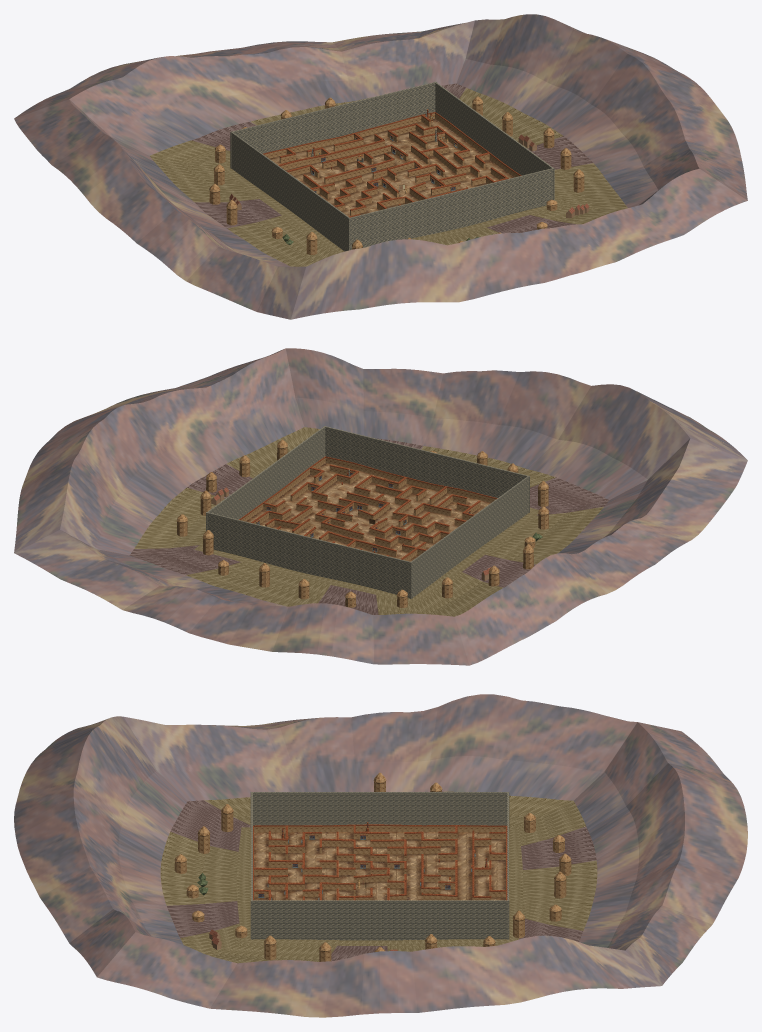
The model's file is SaffronKilns.fbx.
The picture shows the model from 3 angles, top to bottom: view 1: azimuth 30°, elevation 25°; view 2: azimuth 150°, elevation 25°; view 3: azimuth 270°, elevation 25°; orthographic projection. The views are drawn at different scales.
Visible parts, largest first — view 1: Surroundings, C_Solids, Rim, Terrain, Horizon, Set; view 2: Surroundings, C_Solids, Rim, Terrain, Horizon; view 3: Surroundings, C_Solids, Rim, Terrain, Horizon, Set.
Part boxes in pixels (x1,y1,x2,y2): Surroundings: [14, 14, 747, 319]; C_Solids: [230, 81, 554, 251]; Rim: [263, 112, 521, 217]; Terrain: [269, 118, 513, 216]; Horizon: [209, 96, 584, 254]; Set: [294, 109, 476, 199]; Surroundings: [14, 348, 747, 665]; C_Solids: [206, 426, 529, 598]; Rim: [239, 456, 497, 560]; Terrain: [246, 463, 490, 561]; Horizon: [176, 439, 549, 607]; Surroundings: [14, 694, 747, 1017]; C_Solids: [250, 792, 509, 940]; Rim: [253, 824, 507, 900]; Terrain: [254, 831, 505, 900]; Horizon: [174, 772, 571, 961]; Set: [258, 822, 492, 900].
Bounding box in the file's own units: 34047 × 4653 × 34624.
